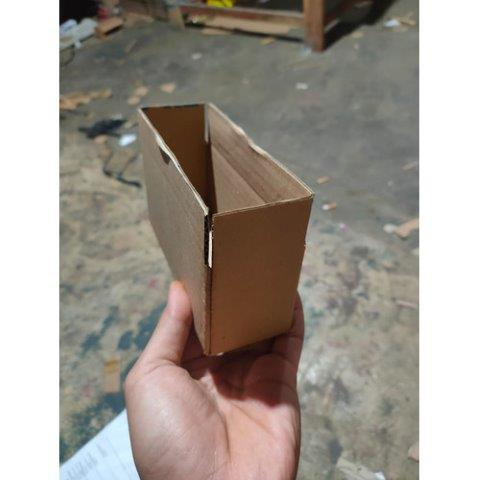kardus: (139, 106, 312, 354)
